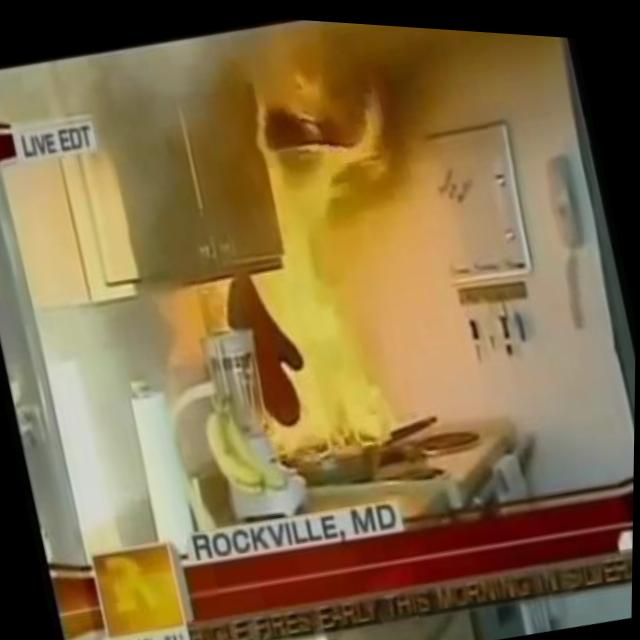fire: (145, 8, 463, 479)
